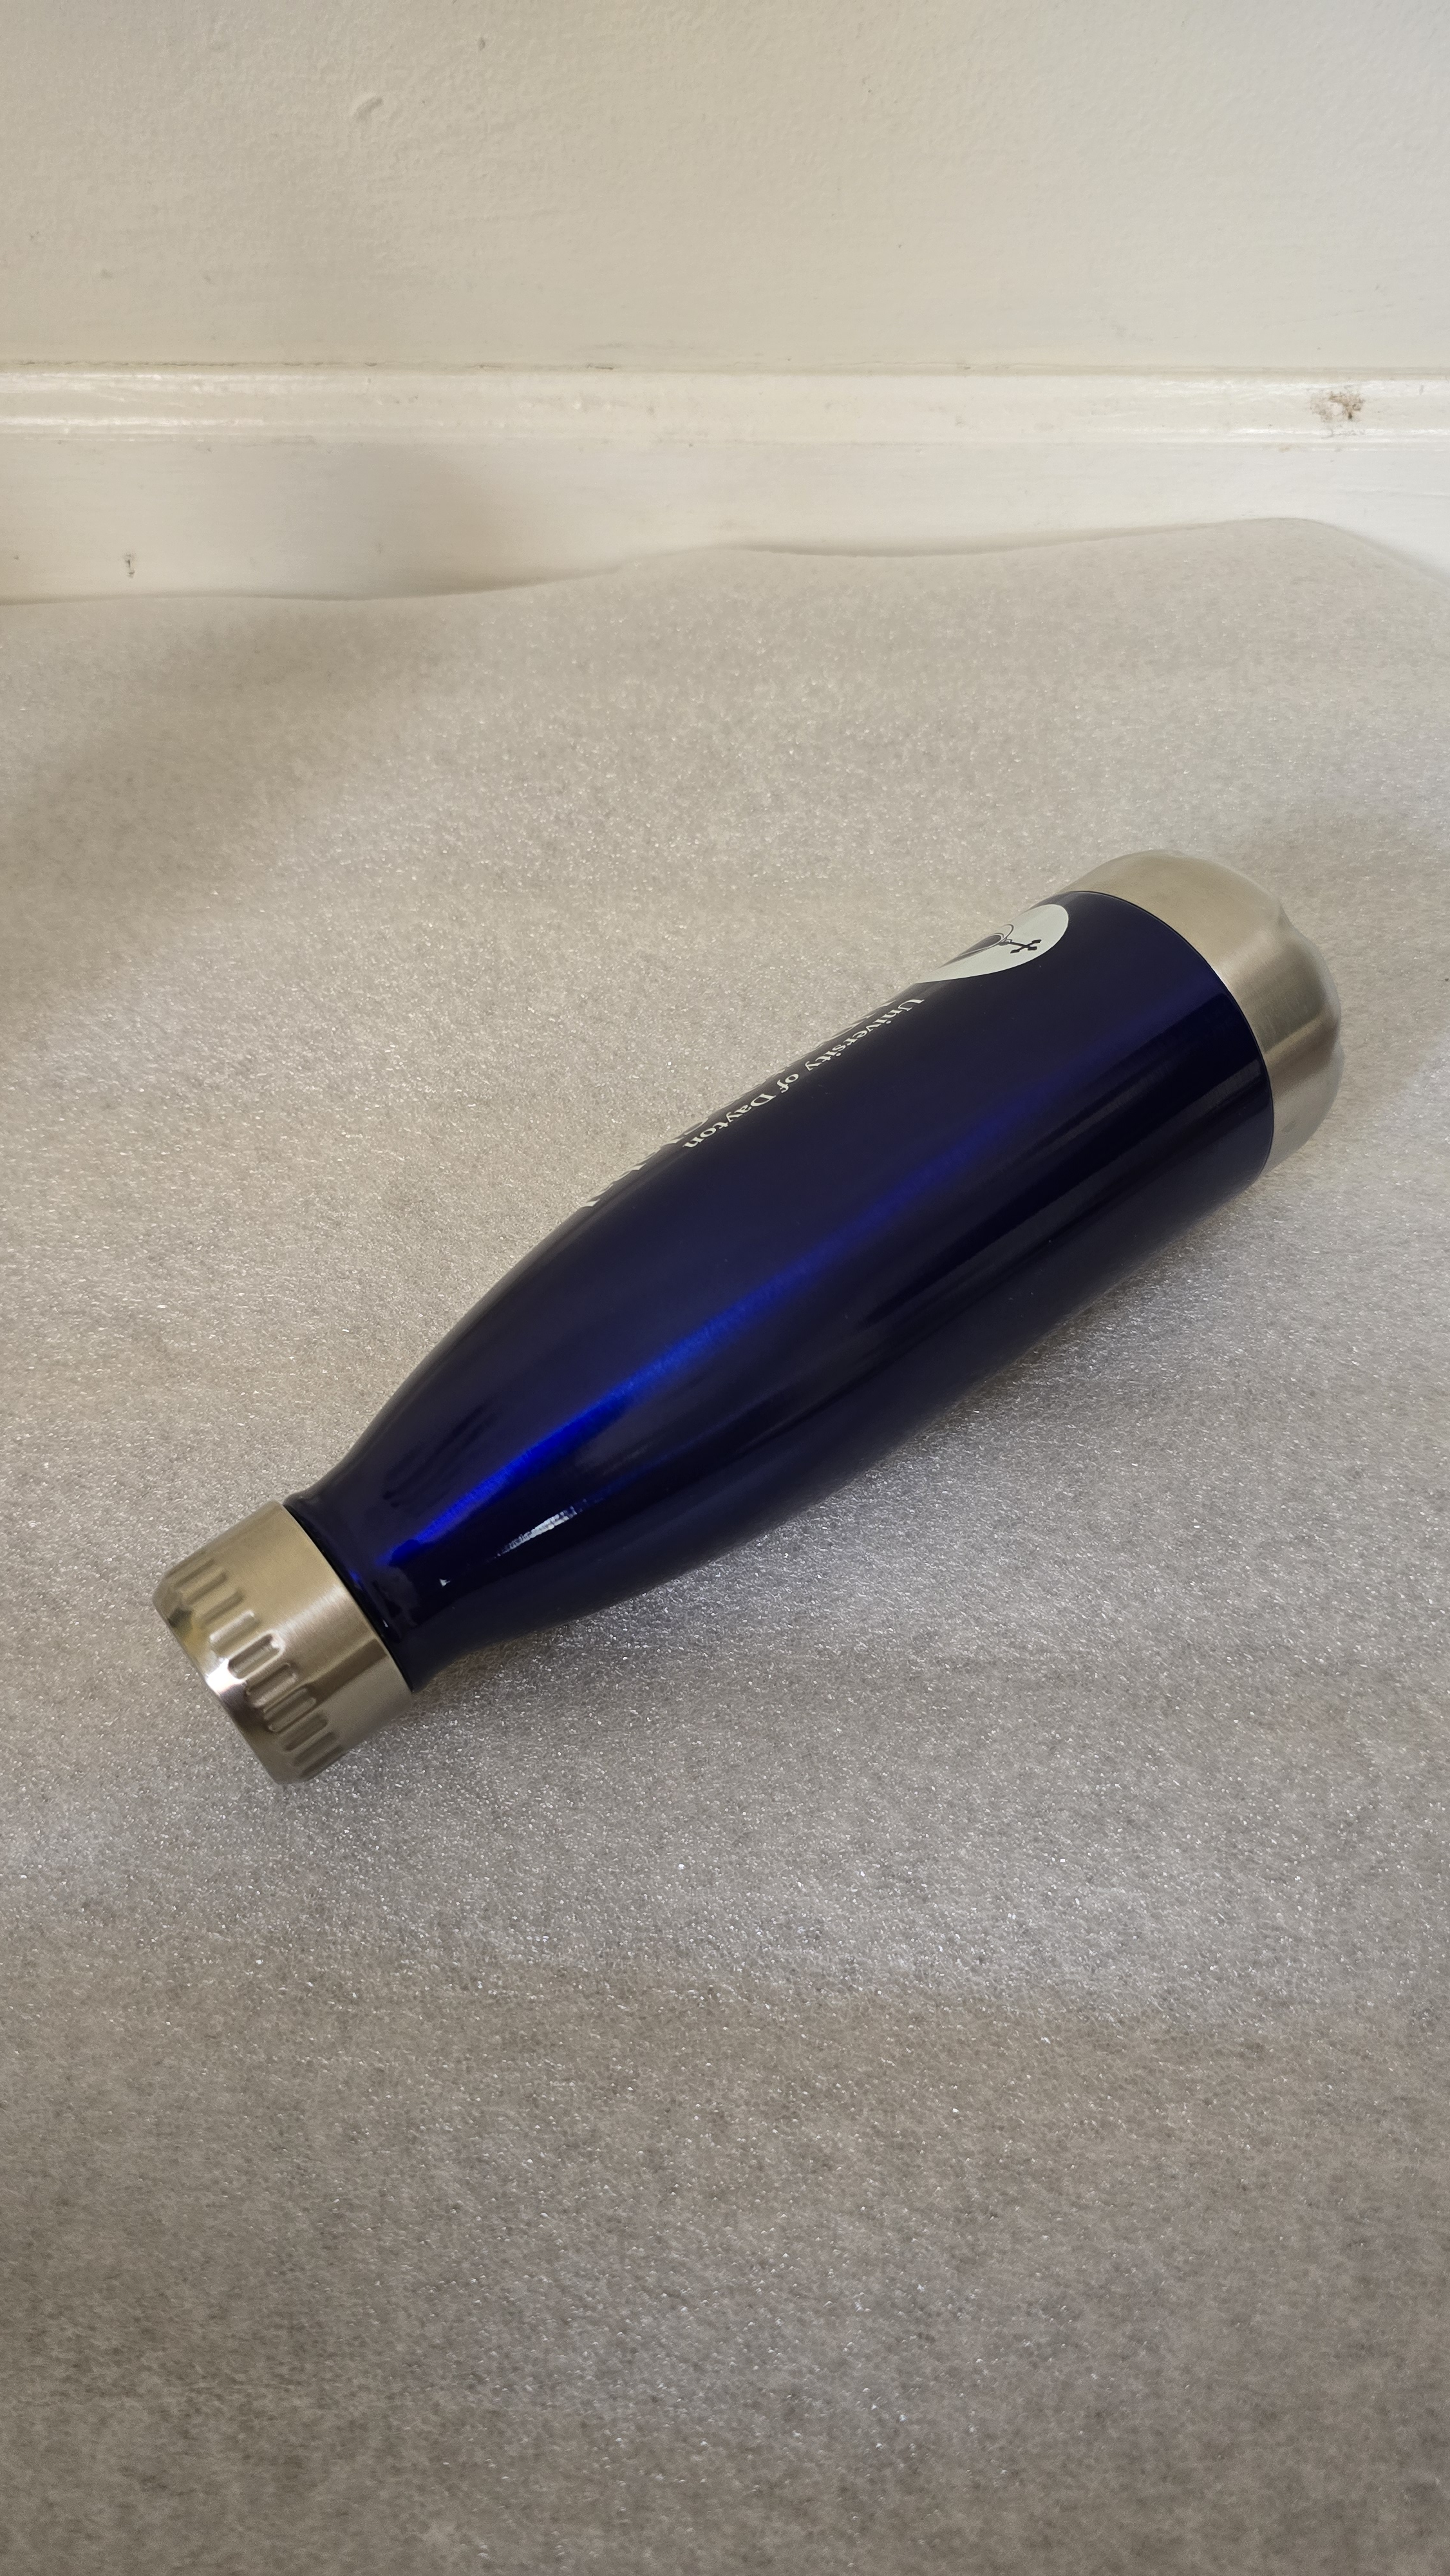bottle: (55, 786, 1392, 1824)
